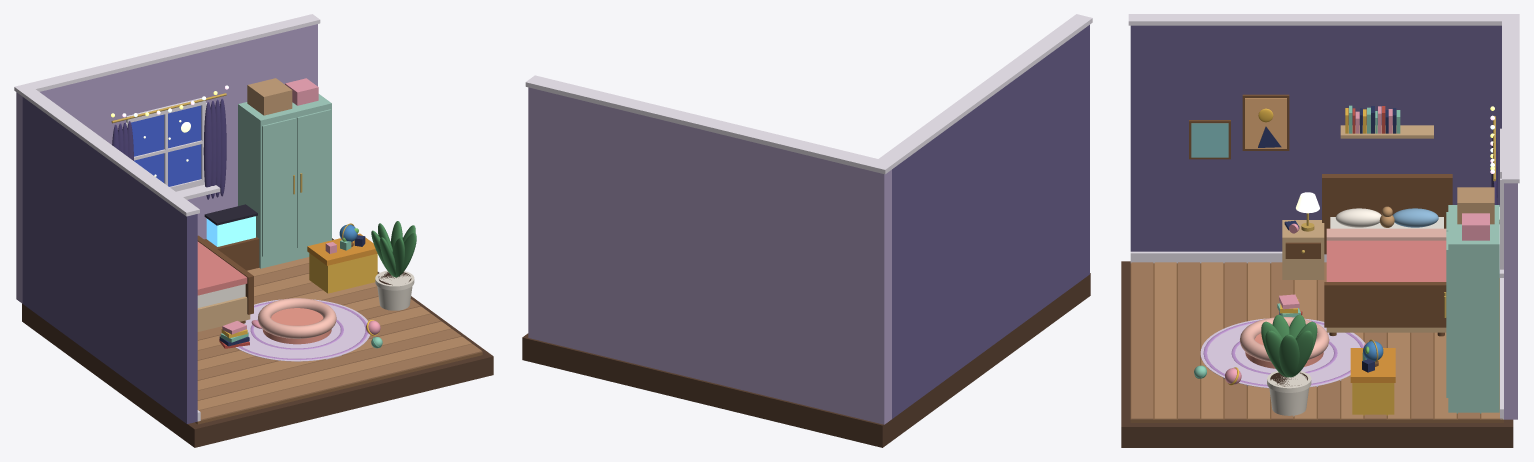
File: room_bedroom.glb
The picture shows the model from 3 angles, left to right: view 1: azimuth 30°, elevation 25°; view 2: azimuth 150°, elevation 25°; view 3: azimuth 270°, elevation 25°; orthographic projection. The views are drawn at different scales.
Parts seen in each view (by area): view 1: B_WallLeft, B_WallBack, B_Base, B_WardDoorL, B_WardDoorR, B_Wardrobe, B_WinGlass, B_CapBack, B_Rug, B_Plank_00, B_CapLeft, B_Plank_01 (+31 smaller); view 2: B_WallBack, B_WallLeft, B_Base, B_CapBack, B_CapLeft; view 3: B_WallLeft, B_Base, B_Wardrobe, B_Footboard, B_Headboard, B_Blanket, B_CapLeft, B_Floor, B_Rug, B_Plank_00, B_Plank_01, B_Plank_02 (+40 smaller).
Boxes of the visible parts, <box> form: B_WallLeft: <box>22,97,197,423</box>; B_WallBack: <box>16,24,317,303</box>; B_Base: <box>22,238,493,447</box>; B_WardDoorL: <box>262,118,296,256</box>; B_WardDoorR: <box>297,109,331,248</box>; B_Wardrobe: <box>238,94,331,268</box>; B_WinGlass: <box>131,105,201,186</box>; B_CapBack: <box>14,14,320,94</box>; B_Rug: <box>235,299,370,361</box>; B_Plank_00: <box>199,344,482,420</box>; B_CapLeft: <box>20,89,199,216</box>; B_Plank_01: <box>197,336,471,410</box>; B_WallBack: <box>528,87,891,424</box>; B_WallLeft: <box>892,25,1089,418</box>; B_Base: <box>522,273,1090,447</box>; B_CapBack: <box>525,75,894,174</box>; B_CapLeft: <box>877,14,1092,167</box>; B_WallLeft: <box>1130,25,1501,251</box>; B_Base: <box>1121,261,1513,447</box>; B_Wardrobe: <box>1448,205,1499,413</box>; B_Footboard: <box>1324,282,1446,327</box>; B_Headboard: <box>1322,174,1452,254</box>; B_Blanket: <box>1326,240,1446,281</box>; B_CapLeft: <box>1128,14,1505,25</box>; B_Floor: <box>1130,263,1503,422</box>; B_Rug: <box>1200,318,1364,388</box>; B_Plank_00: <box>1131,262,1153,419</box>; B_Plank_01: <box>1154,262,1176,419</box>; B_Plank_02: <box>1178,262,1199,419</box>.
Bounding box in the file's own units: 4.27 × 3.14 × 4.27.
